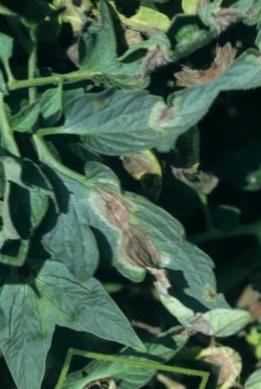Tomato leaf late blight: (0, 88, 232, 358), (50, 38, 233, 193)
